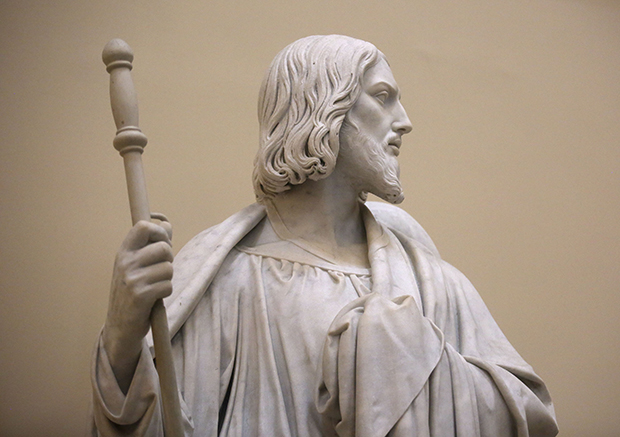person-like: (87, 29, 563, 437)
